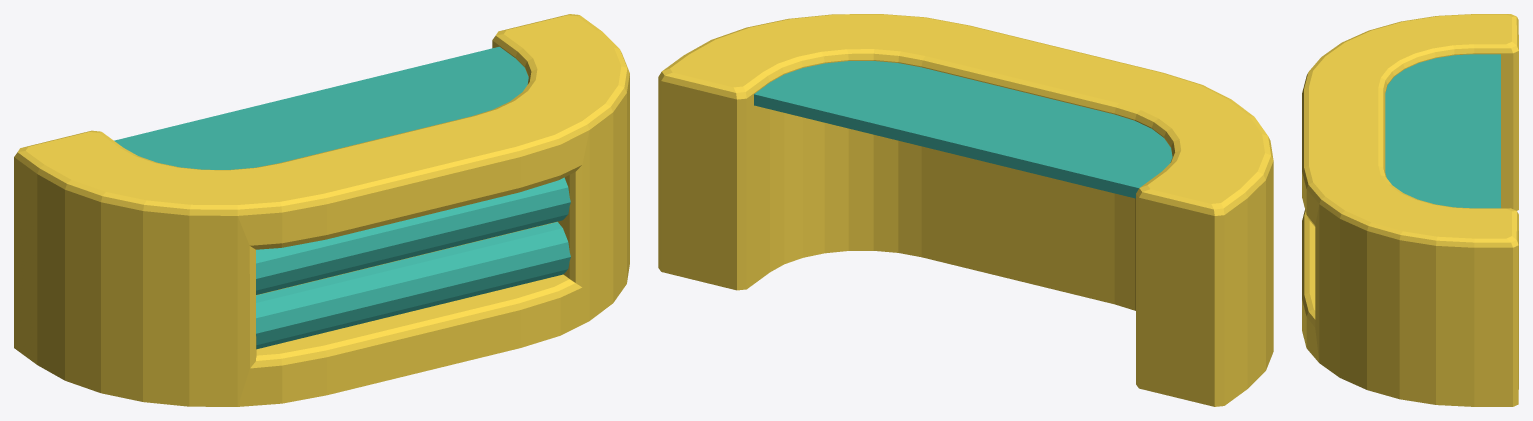
The model's file is Table_01.fbx.
3 renders of one model, left to right at view 1: azimuth 30°, elevation 25°; view 2: azimuth 150°, elevation 25°; view 3: azimuth 270°, elevation 25°, orthographic. The views are drawn at different scales.
Visible parts, largest first — view 1: Table_01; view 2: Table_01; view 3: Table_01.
Boxes of the visible parts, <box> form: Table_01: <box>14,14,629,406</box>; Table_01: <box>658,14,1273,406</box>; Table_01: <box>1302,14,1518,406</box>.
Size of the model in its own units: 271 by 90.55 by 108.
1 material, 1 textured.
